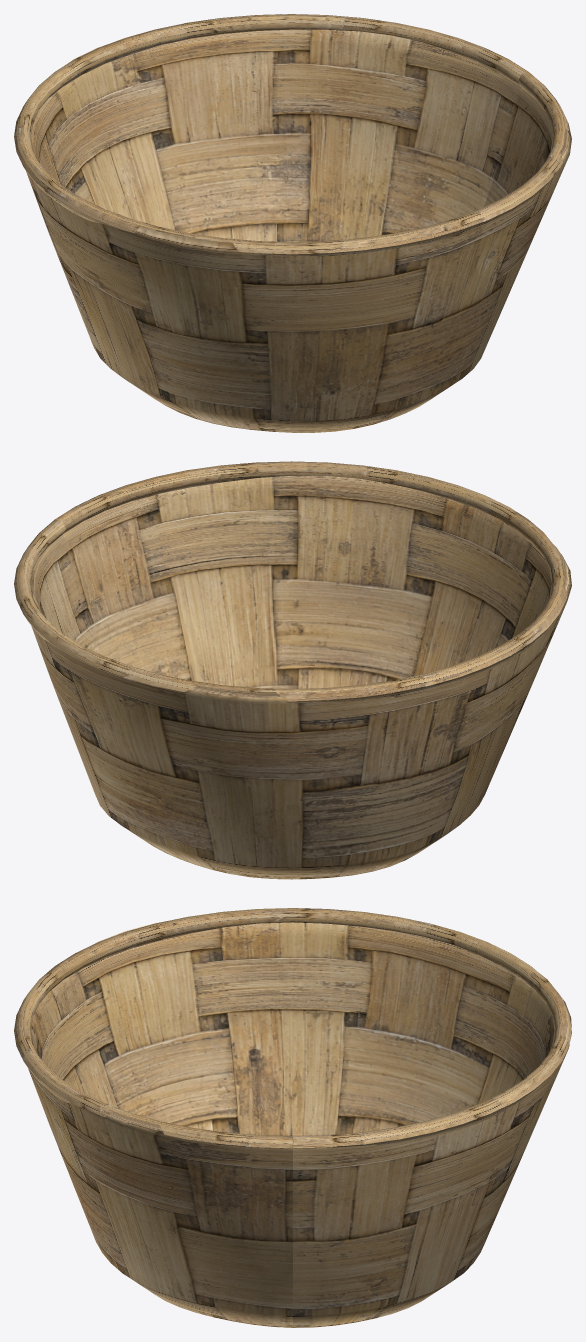
File: prop_dala.glb
The picture shows the model from 3 angles, top to bottom: view 1: azimuth 30°, elevation 25°; view 2: azimuth 150°, elevation 25°; view 3: azimuth 270°, elevation 25°; orthographic projection.
Parts seen in each view (by area): view 1: prop_dala; view 2: prop_dala; view 3: prop_dala.
Boxes of the visible parts, x1,y1,x2,y2 form: prop_dala: (14,14,571,432); prop_dala: (14,461,571,879); prop_dala: (14,908,571,1327).
Size of the model in its own units: 0.45 by 0.21 by 0.45.
Materials: 1 (1 with a texture image).
